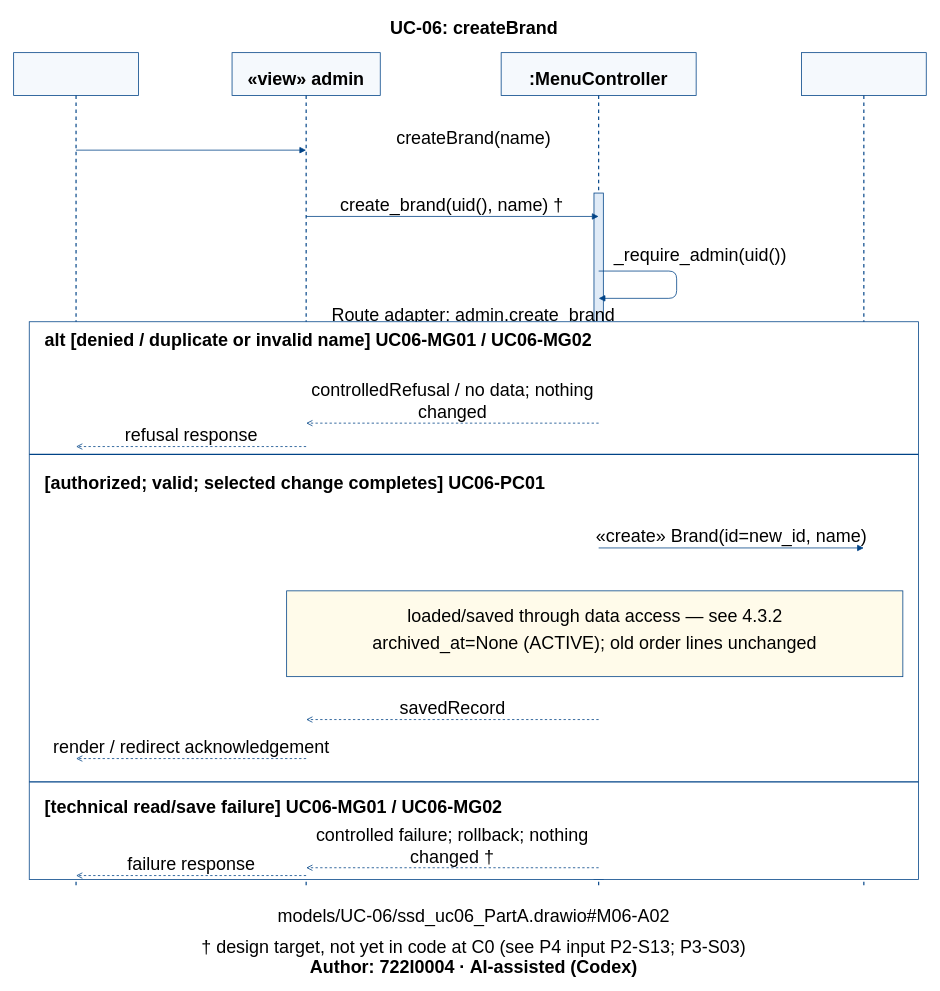
Image size: 940x991. Some labels were removed from this diagram. The centre of each missing label's shape, as x and y in pixels:
":Brand" goes at [863,74].
"Admin" goes at [75,74].
